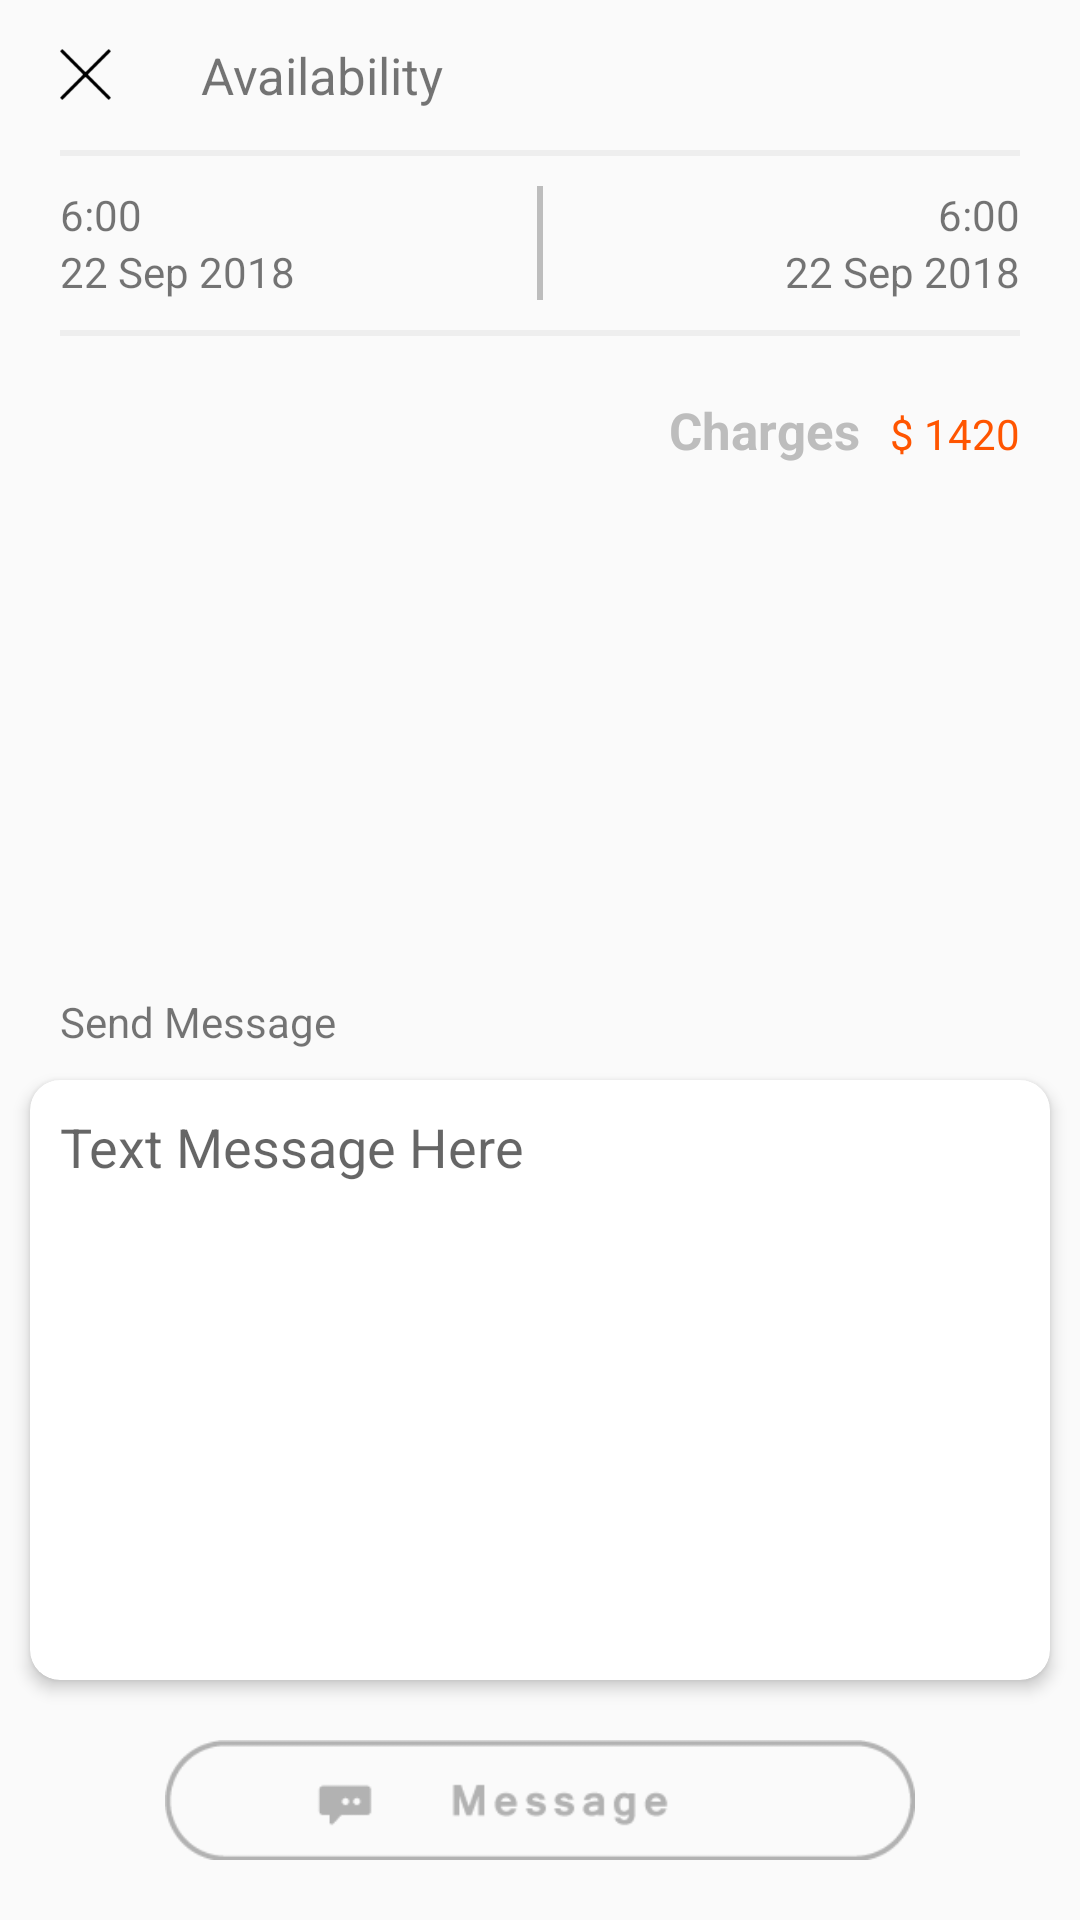

Screen size 1080x1920. Icon name, then its box in pixels as box(x1, y1, x2, y2):
cross: box(60, 49, 111, 100)
